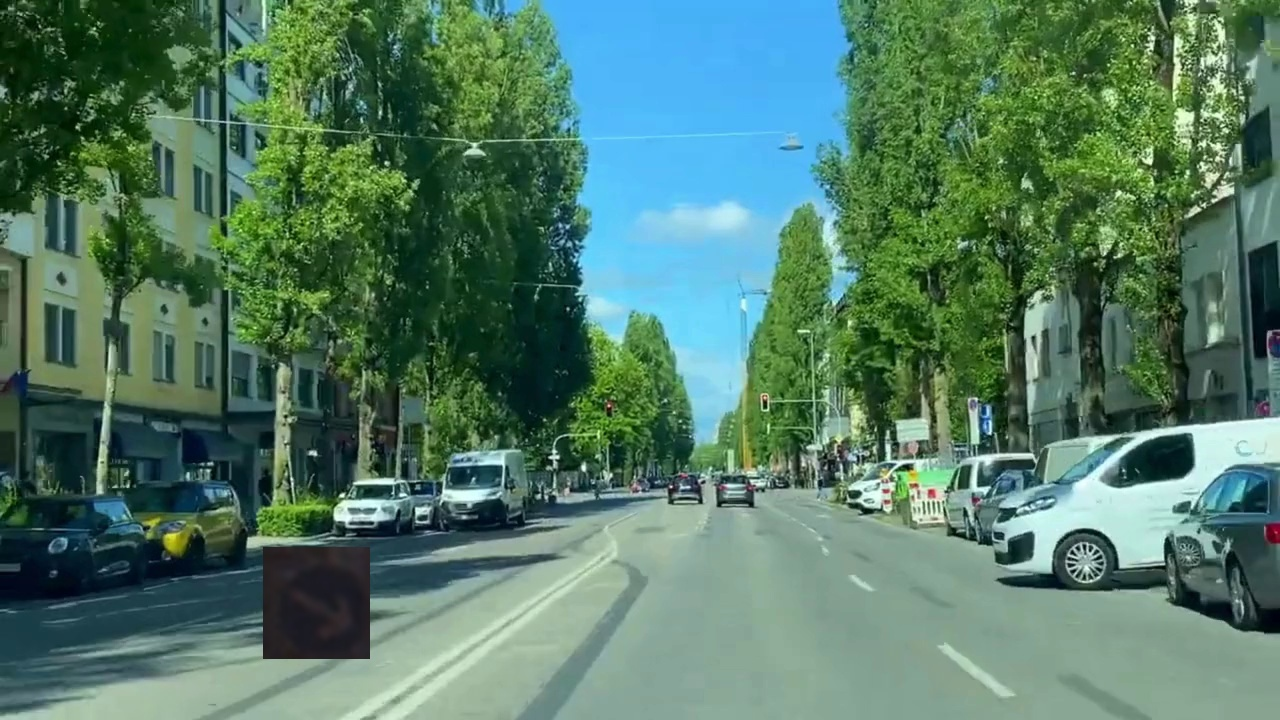Keep right: (263, 547, 370, 659)
